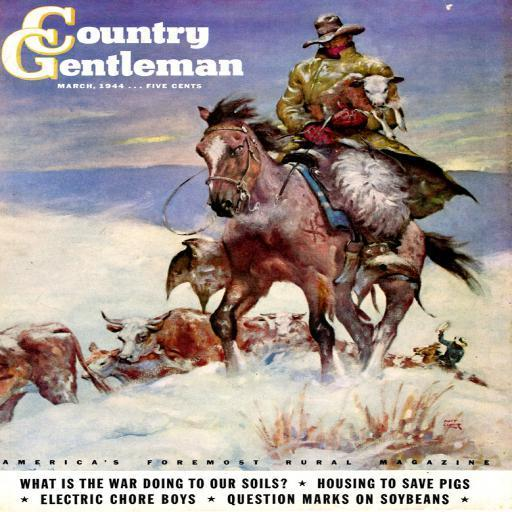horse: (193, 90, 490, 376)
